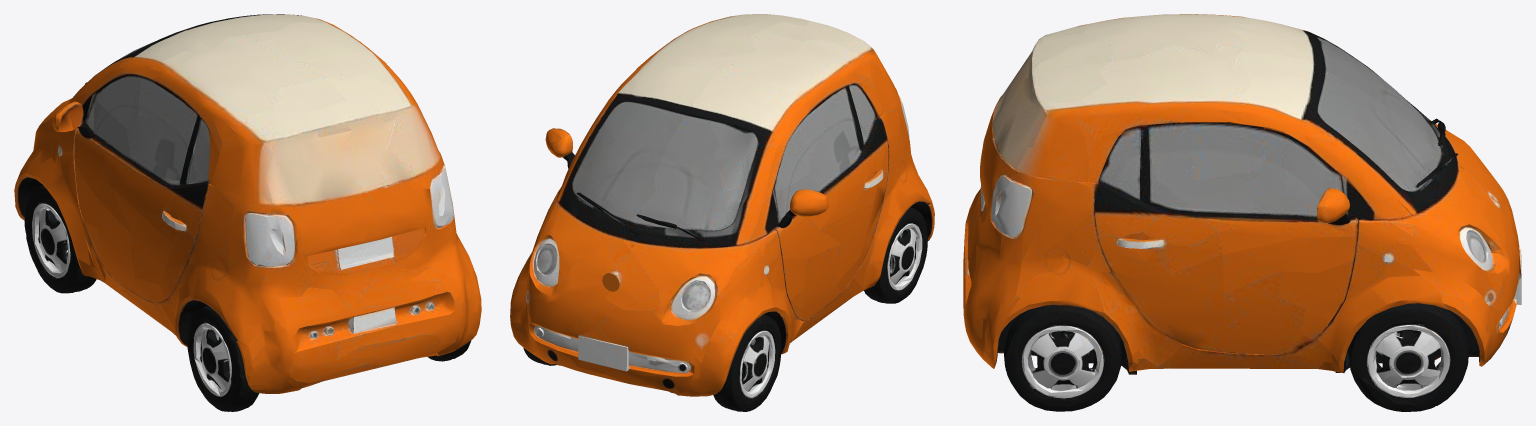
File: teleopVehHatch.53933015.glb
3 renders of one model, left to right at view 1: azimuth 30°, elevation 25°; view 2: azimuth 150°, elevation 25°; view 3: azimuth 270°, elevation 25°, orthographic. The views are drawn at different scales.
Parts seen in each view (by area): view 1: output_unwrapped; view 2: output_unwrapped; view 3: output_unwrapped.
Boxes of the visible parts, x1,y1,x2,y2 form: output_unwrapped: [14, 14, 481, 411]; output_unwrapped: [510, 14, 934, 411]; output_unwrapped: [963, 14, 1521, 411].
Bounding box in the file's own units: 1.29 × 1.15 × 1.9.
2 materials, 1 textured.
